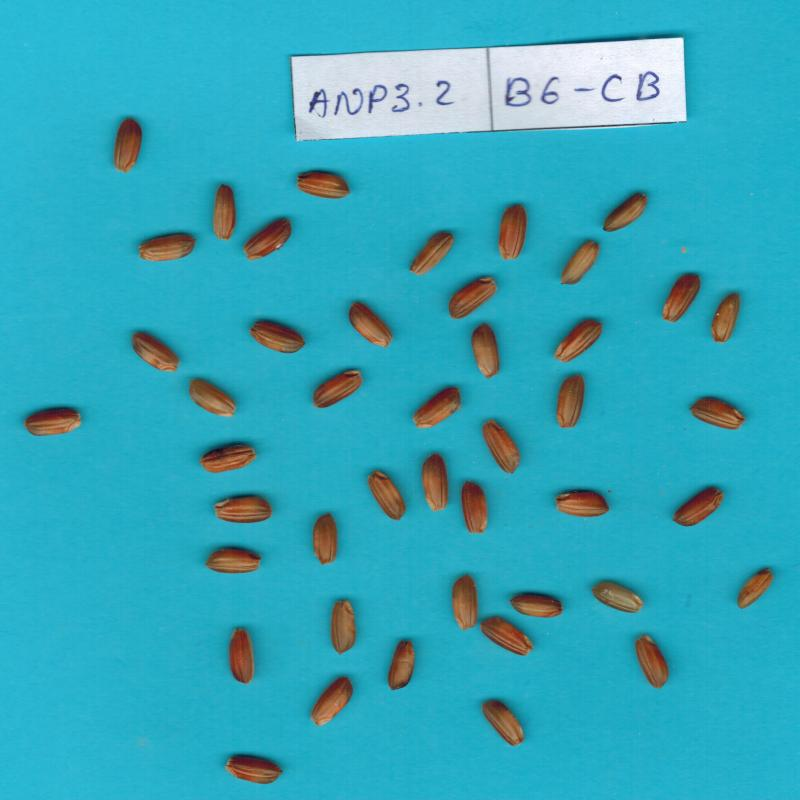Rice: (554, 320, 603, 363), (482, 419, 520, 474), (480, 617, 533, 656), (311, 677, 353, 726), (673, 487, 724, 526), (349, 302, 393, 347), (449, 278, 497, 319), (413, 387, 461, 428), (244, 219, 291, 260), (410, 232, 453, 276), (482, 701, 524, 746), (662, 275, 701, 323), (314, 370, 363, 408), (368, 470, 405, 520), (635, 635, 669, 689), (132, 333, 179, 372), (249, 321, 305, 353), (189, 379, 236, 417), (690, 398, 745, 430), (603, 193, 647, 232), (561, 241, 599, 284), (200, 445, 257, 473), (592, 582, 643, 613), (138, 234, 196, 261), (226, 754, 284, 781), (24, 409, 82, 436), (114, 118, 142, 173), (499, 205, 527, 260), (471, 323, 499, 378), (422, 453, 448, 512), (214, 497, 272, 523), (557, 374, 584, 429), (452, 574, 478, 630), (711, 293, 740, 343), (738, 568, 773, 609), (297, 172, 350, 199), (230, 629, 256, 684), (556, 488, 610, 514), (205, 549, 261, 574), (461, 481, 487, 534), (213, 184, 236, 241), (388, 640, 414, 690), (331, 600, 355, 654), (510, 594, 563, 618), (313, 514, 337, 565)
